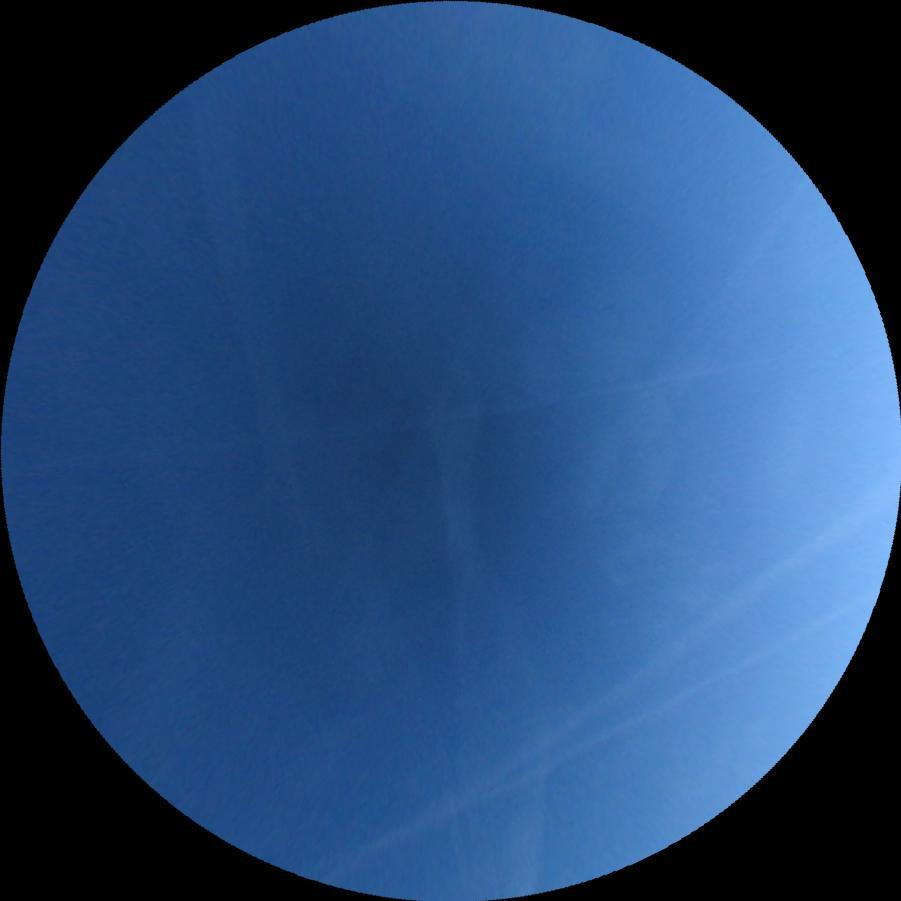contrail veryold: (317, 585, 887, 895), (10, 350, 785, 486), (427, 328, 561, 898), (191, 71, 323, 615)
